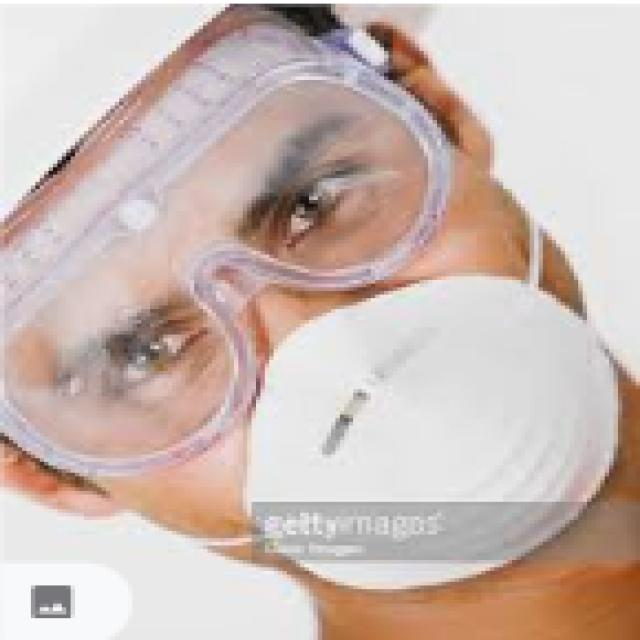glasses: (0, 84, 450, 458)
